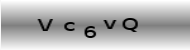6: (84, 25, 96, 38)
Q: (122, 18, 138, 33)
V: (37, 18, 54, 31)
c: (62, 21, 76, 31)
v: (103, 19, 117, 30)
